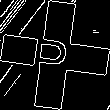P_N: (33, 27, 77, 83)
